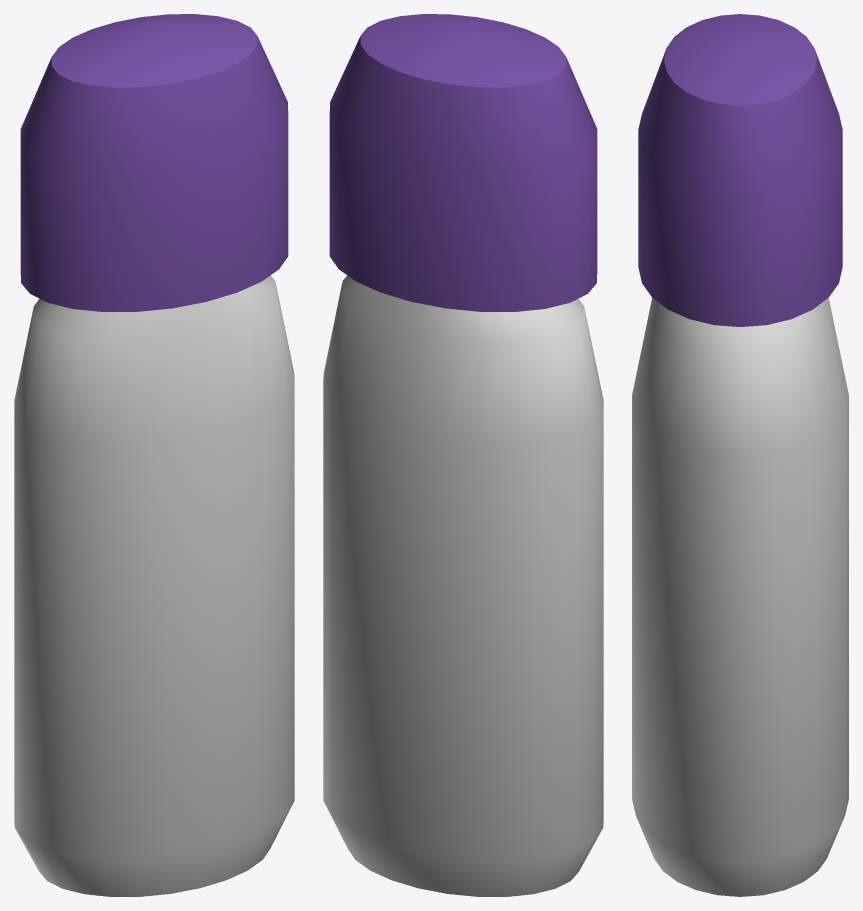
Rendered from desodorante_roll_on.dae.
3 views of the same model, side by side, from view 1: azimuth 30°, elevation 25°; view 2: azimuth 150°, elevation 25°; view 3: azimuth 270°, elevation 25° (orthographic). The views are drawn at different scales.
Visible parts, largest first — view 1: Desodorante roll-on (×2); view 2: Desodorante roll-on (×2); view 3: Desodorante roll-on (×2).
Part boxes in pixels (<box>): Desodorante roll-on (×2): <box>14,14,294,896</box>; Desodorante roll-on (×2): <box>323,14,603,896</box>; Desodorante roll-on (×2): <box>632,14,848,896</box>.
Bounding box in the file's own units: 46 × 34 × 140.
